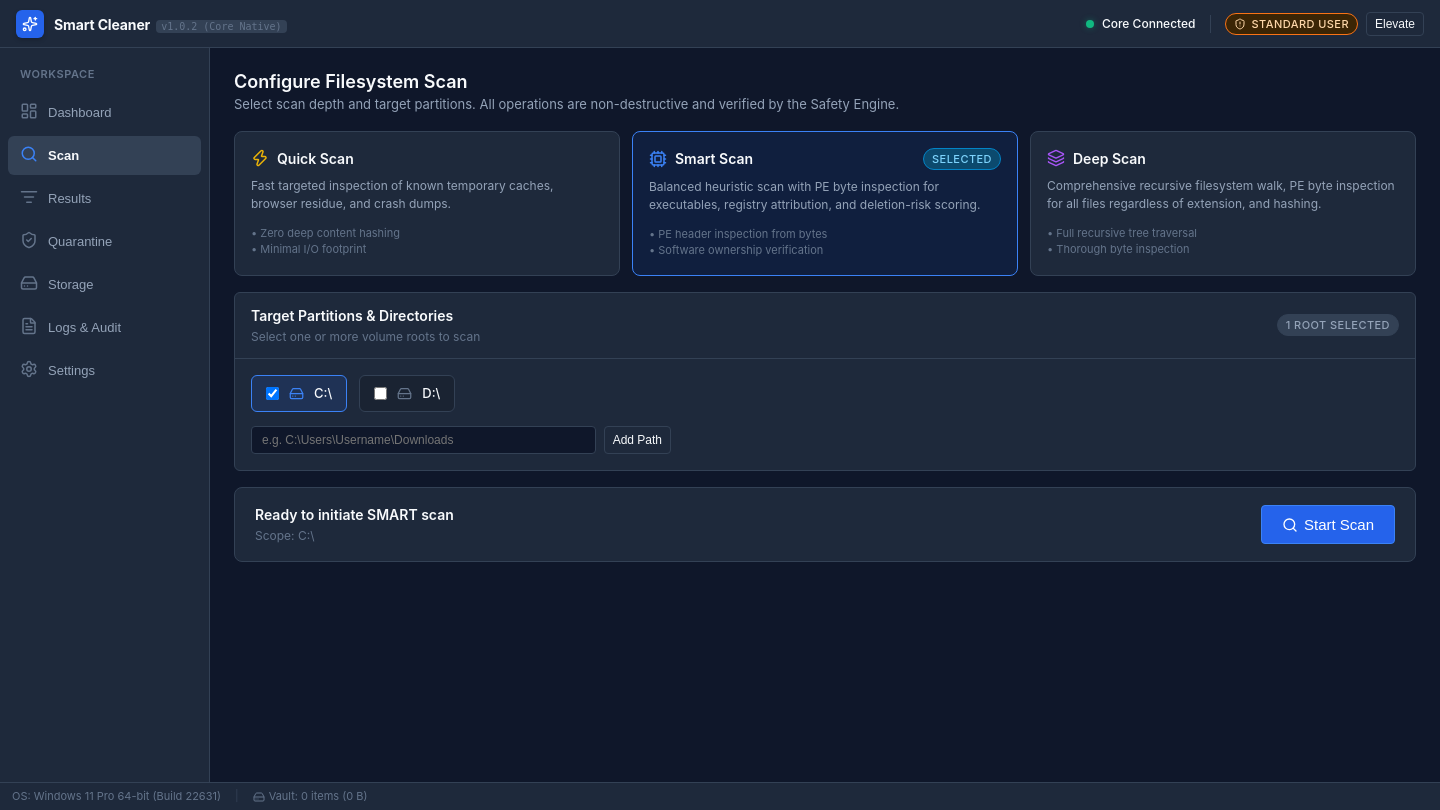
Test case: M3.3 — Scan Workflow & State Machine › initiates scan via start_scan command and displays returned session ID
Expected: the text "Core Connected" is shown, [1102,14,1196,32]
Expected: the heading "Configure Filesystem Scan" is shown, [234,71,468,92]
Click the button "Start Scan".
click(1328, 524)  # box [1261,505,1395,544]
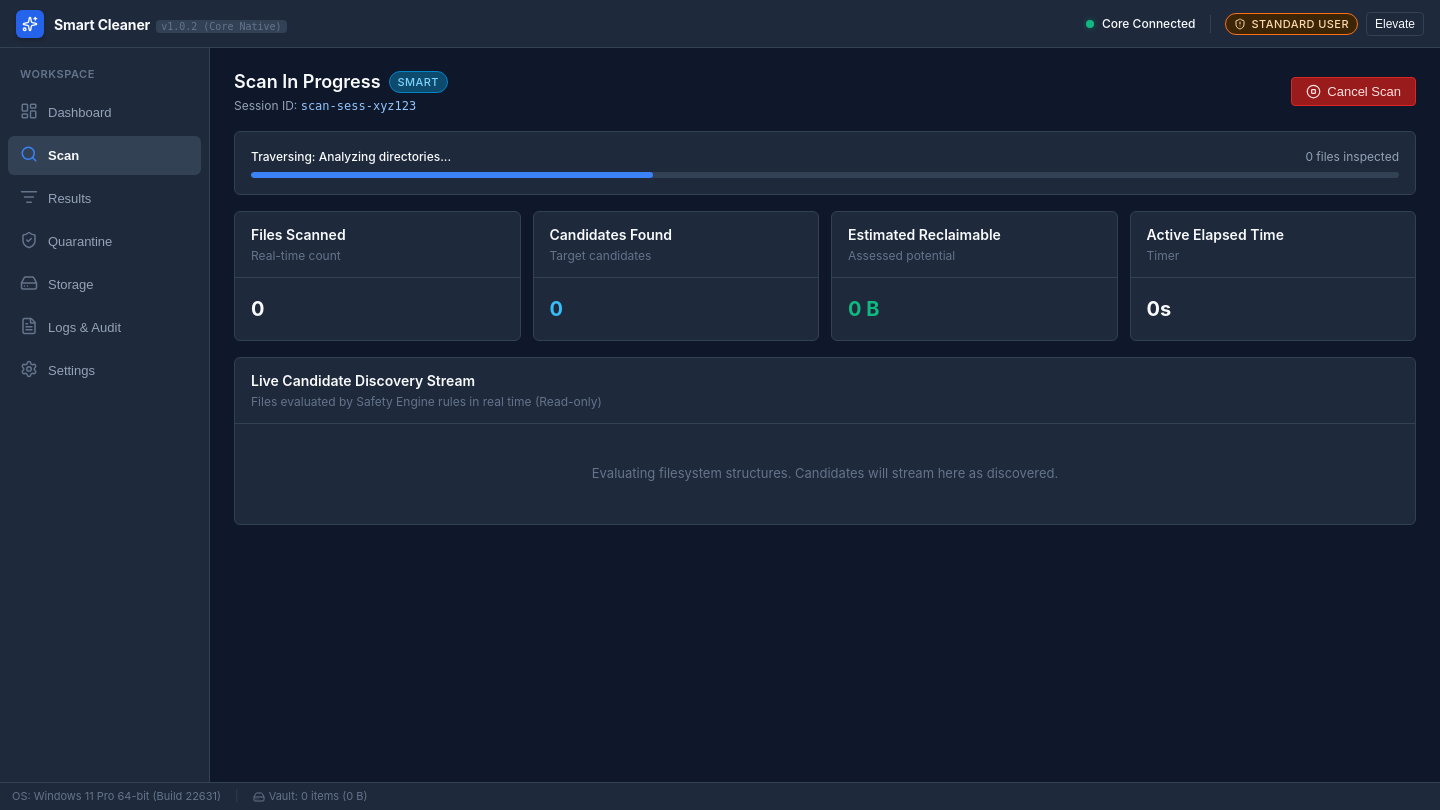
Result: the heading "Scan In Progress" is shown at [234,68,380,95]
Result: the text "scan-sess-xyz123" is shown at [301,99,416,113]
